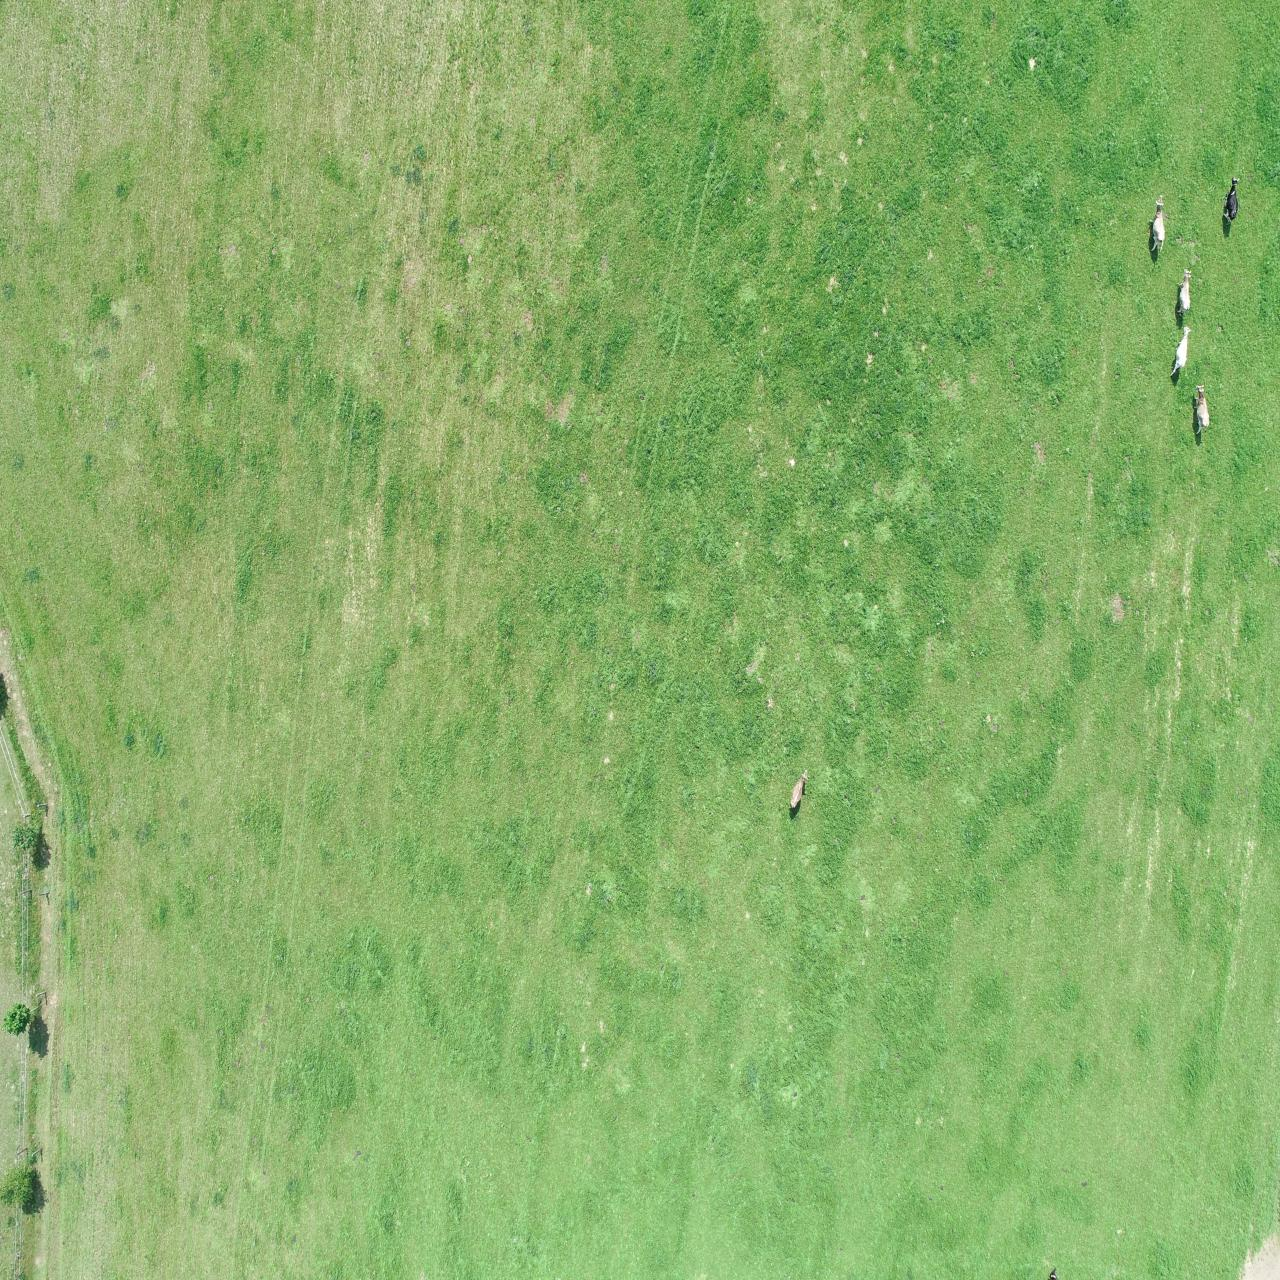cow: (1170, 325, 1193, 377), (1192, 383, 1212, 436), (787, 767, 810, 810), (1223, 176, 1241, 226), (1150, 193, 1165, 252), (1176, 268, 1193, 316)
